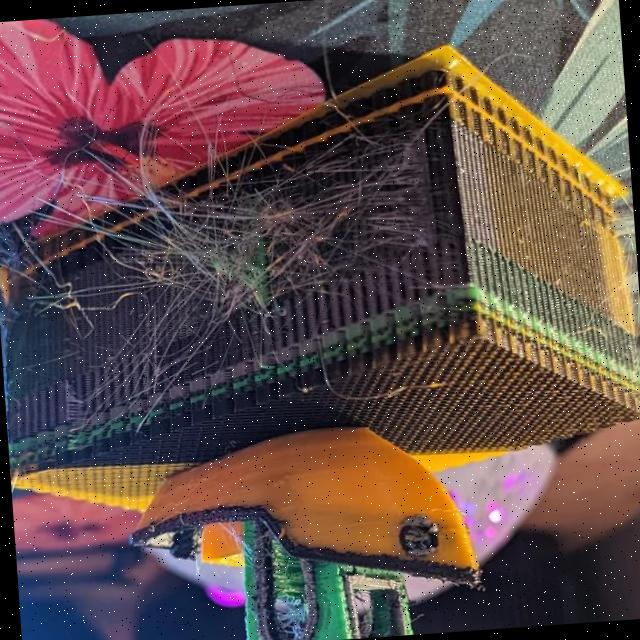stringing: (140, 163, 367, 330)
